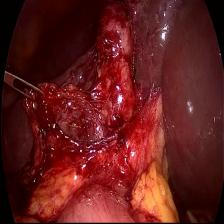Grasper: (3, 69, 50, 116)
